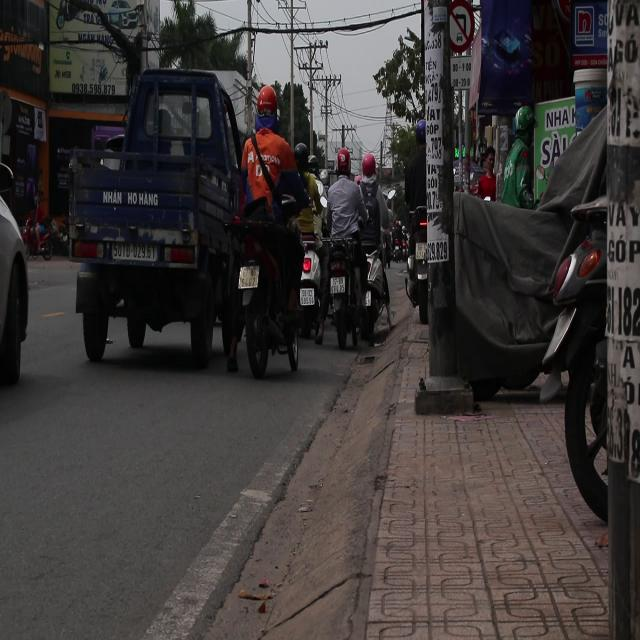motorbike: (233, 215, 306, 378), (318, 236, 367, 348)
truck: (64, 66, 249, 364)
